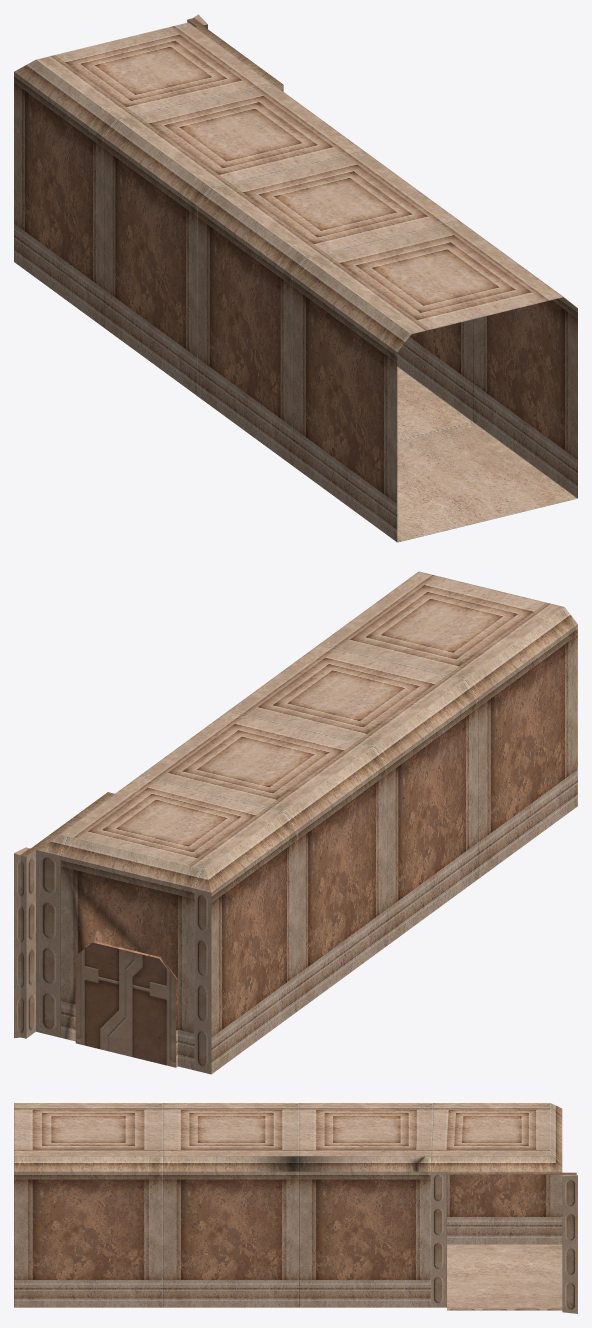
Rendered from thm_nboo_thed_emp_retreat_r7_hall2_mesh_r7.fbx.
3 views of the same model, one above another, from view 1: azimuth 30°, elevation 25°; view 2: azimuth 150°, elevation 25°; view 3: azimuth 270°, elevation 25° (orthographic). The views are drawn at different scales.
Parts seen in each view (by area): view 1: mesh_node; view 2: mesh_node; view 3: mesh_node.
Boxes of the visible parts, left/top/right/bottom form: mesh_node: left=14, top=14, right=577, bottom=542; mesh_node: left=14, top=571, right=577, bottom=1074; mesh_node: left=14, top=1103, right=577, bottom=1313.
Size of the model in its own units: 5.59 by 5.65 by 19.55.
